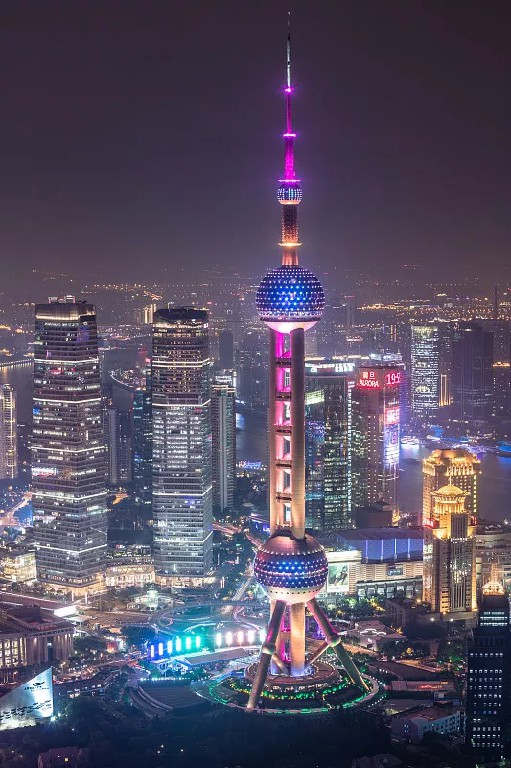Oriental: (246, 8, 371, 708)
